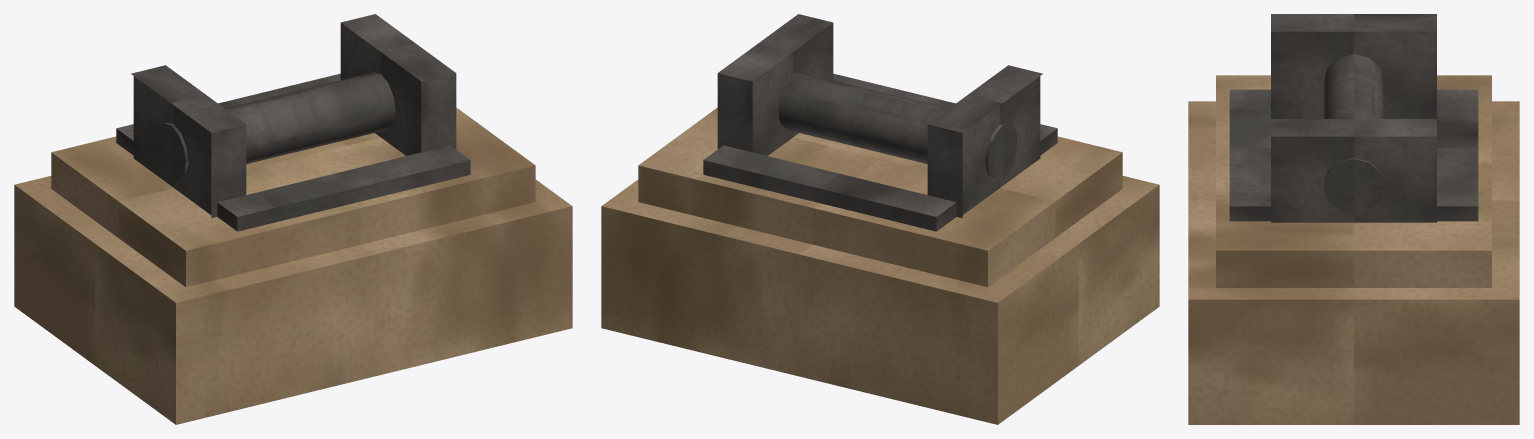
Rendered from lever-base.glb.
The picture shows the model from 3 angles, left to right: view 1: azimuth 30°, elevation 25°; view 2: azimuth 150°, elevation 25°; view 3: azimuth 270°, elevation 25°; orthographic projection. The views are drawn at different scales.
Parts seen in each view (by area): view 1: LeverBase_sandstone, LeverBase_iron; view 2: LeverBase_sandstone, LeverBase_iron; view 3: LeverBase_sandstone, LeverBase_iron.
Part boxes in pixels (box(x1,y1,x2,y2)): LeverBase_sandstone: box(14, 107, 572, 424); LeverBase_iron: box(116, 14, 470, 231); LeverBase_sandstone: box(601, 107, 1159, 424); LeverBase_iron: box(703, 14, 1057, 231); LeverBase_sandstone: box(1188, 75, 1519, 424); LeverBase_iron: box(1229, 14, 1478, 222).
Bounding box in the file's own units: 0.34 × 0.2 × 0.24.
Materials: 2 (2 with a texture image).
